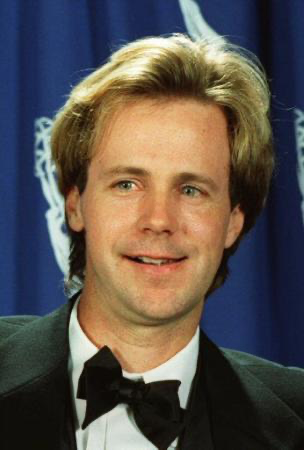Face: (98, 114, 232, 327)
